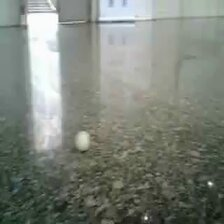w: (73, 130, 93, 152)
